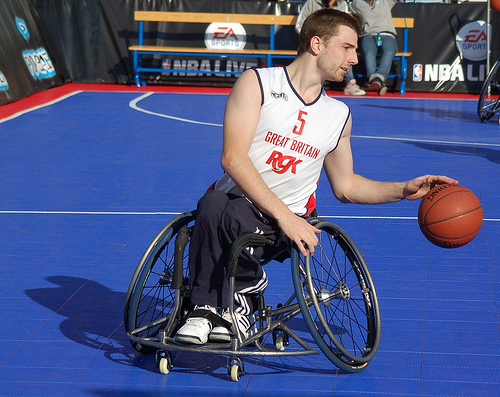basketball: (419, 184, 481, 247)
